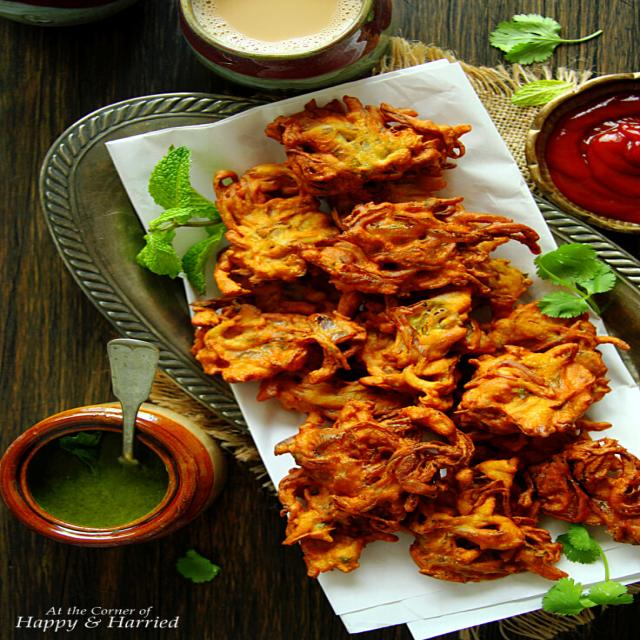BAJI: (192, 96, 639, 583)
